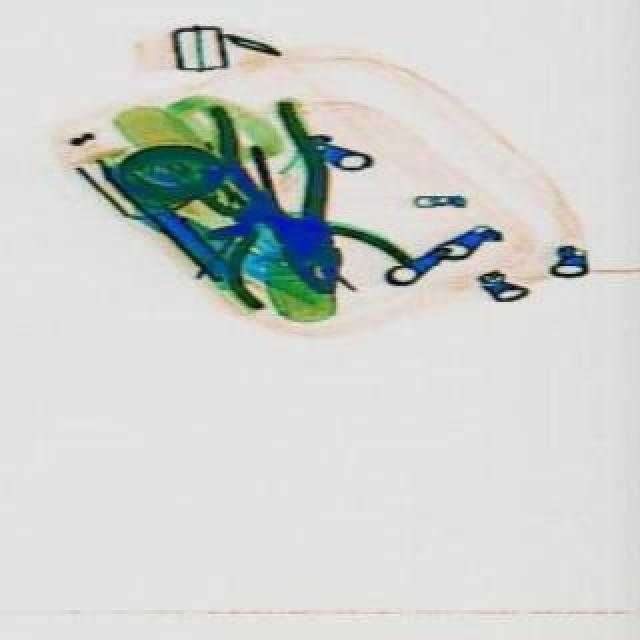wrench: (148, 118, 424, 370), (208, 84, 372, 310)
